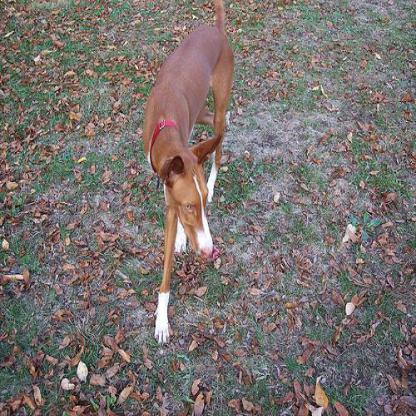dog: (139, 13, 231, 346)
